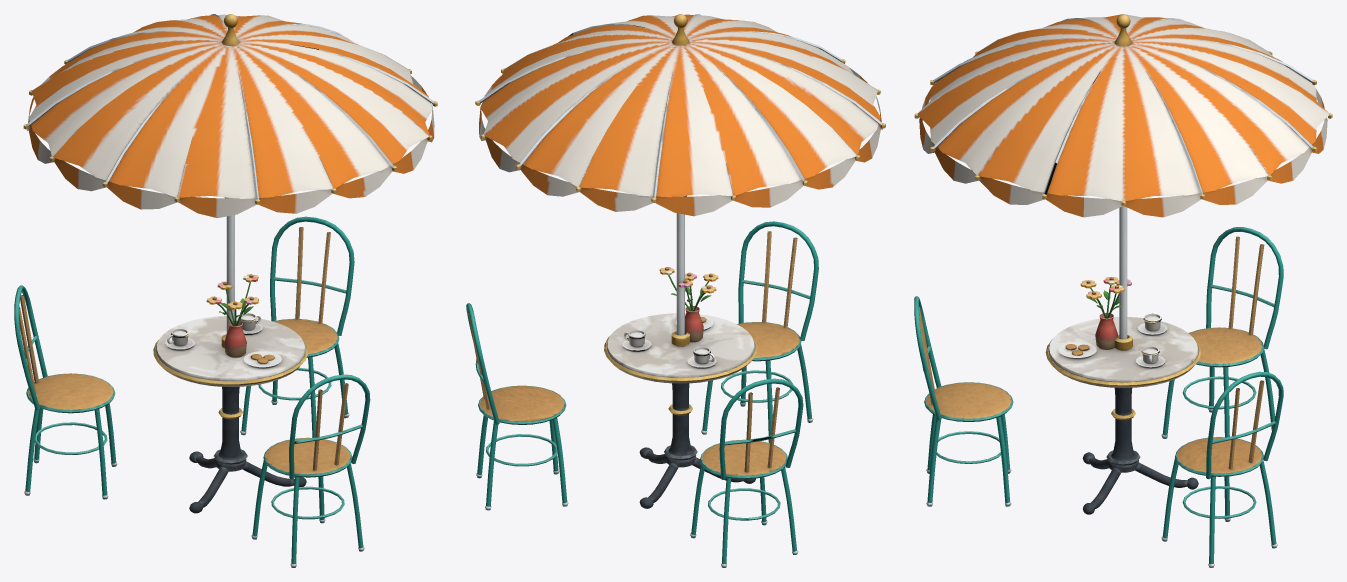
The model's file is parasol-table.fbx.
3 views of the same model, side by side, from view 1: azimuth 30°, elevation 25°; view 2: azimuth 150°, elevation 25°; view 3: azimuth 270°, elevation 25° (orthographic).
Visible parts, largest first — view 1: Body, Anim Sway; view 2: Body, Anim Sway; view 3: Body, Anim Sway.
Boxes of the visible parts, x1,y1,x2,y2 form: Body: [14, 14, 437, 567]; Anim Sway: [206, 274, 258, 326]; Body: [466, 14, 885, 567]; Anim Sway: [659, 267, 718, 311]; Body: [914, 14, 1332, 567]; Anim Sway: [1080, 277, 1131, 318].
Size of the model in its own units: 2 by 2.51 by 2.
